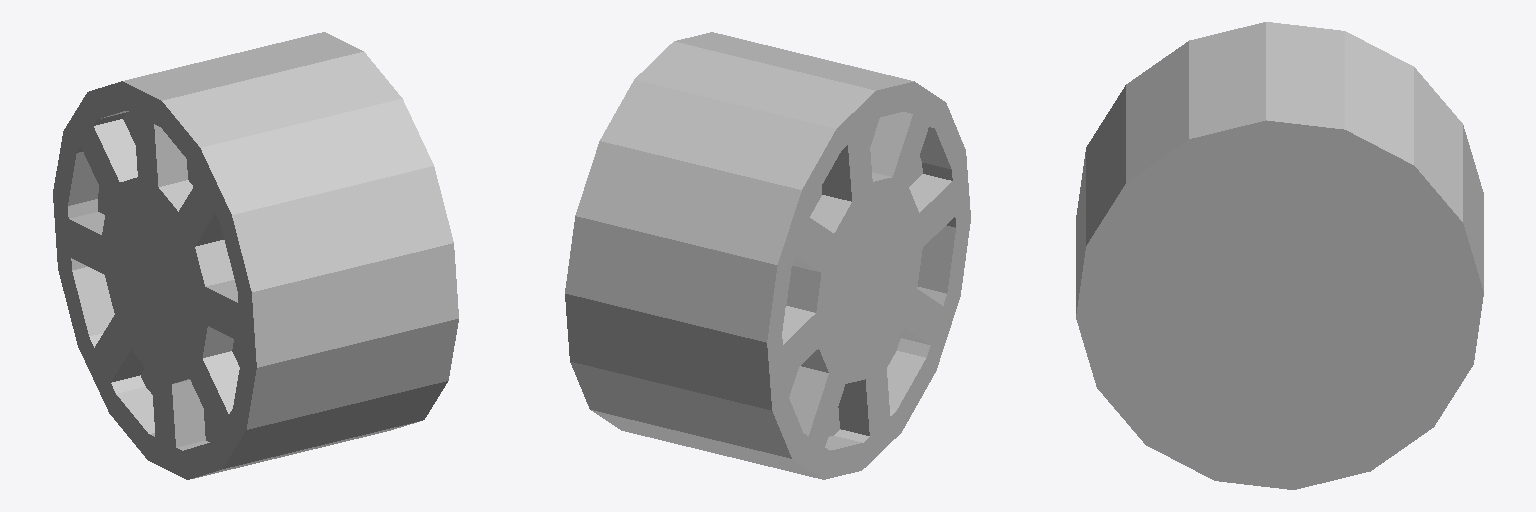
File: right_wheel.obj
The picture shows the model from 3 angles: view 1: azimuth 30°, elevation 25°; view 2: azimuth 150°, elevation 25°; view 3: azimuth 270°, elevation 25°; orthographic projection.
Parts seen in each view (by area): view 1: right_wheel_Plane.001; view 2: right_wheel_Plane.001; view 3: right_wheel_Plane.001.
Part boxes in pixels (x1,y1,x2,y2): right_wheel_Plane.001: (53, 32, 458, 479); right_wheel_Plane.001: (565, 32, 970, 479); right_wheel_Plane.001: (1076, 22, 1483, 489).
Bounding box in the file's own units: 0.3343 × 0.584 × 0.584.